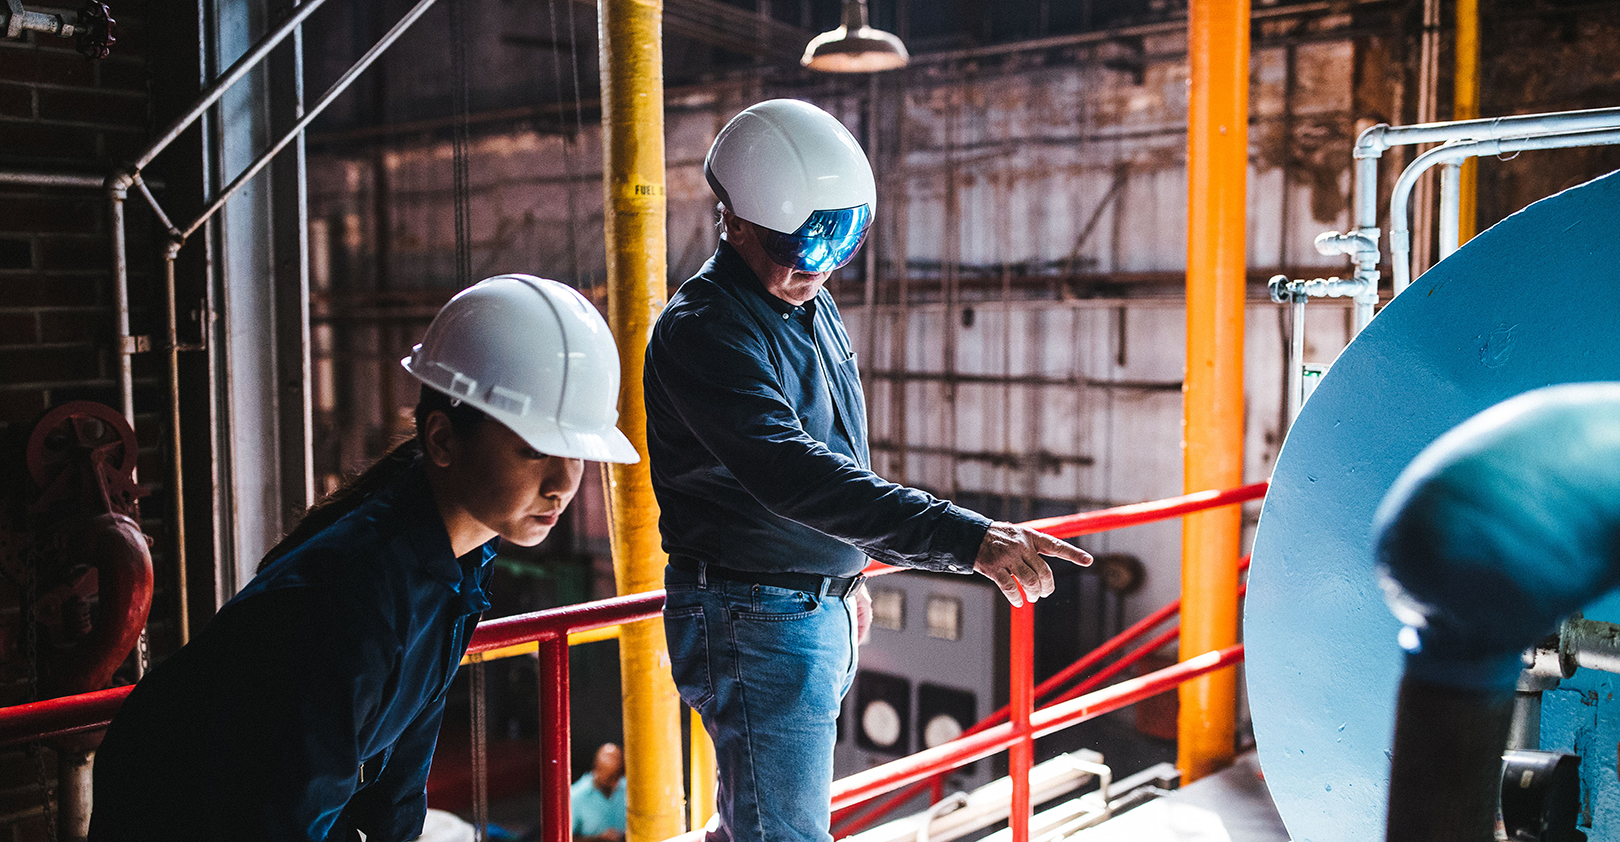Person_wearing_helmet: (371, 246, 626, 478)
